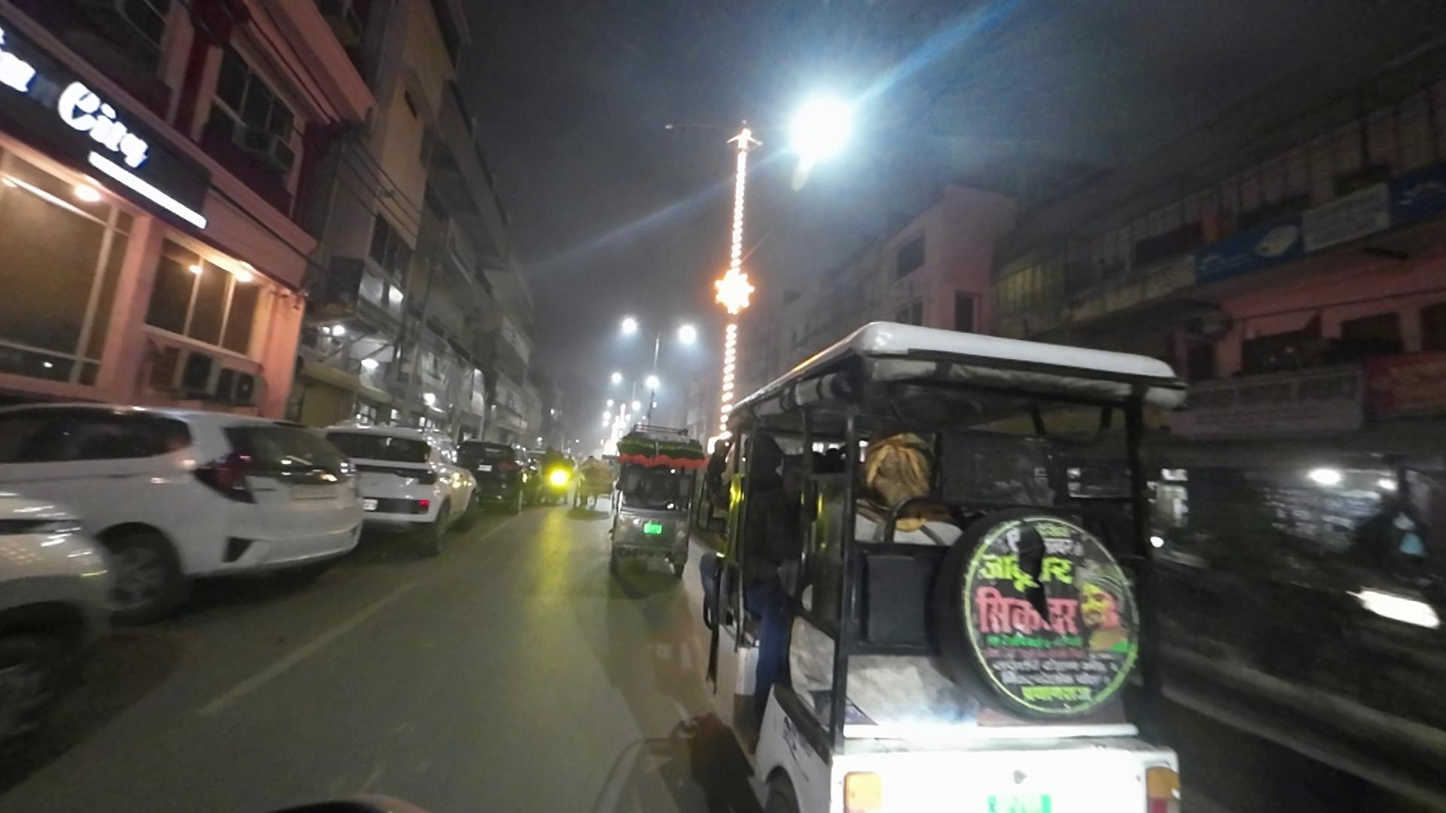streetlight: (659, 118, 729, 137)
